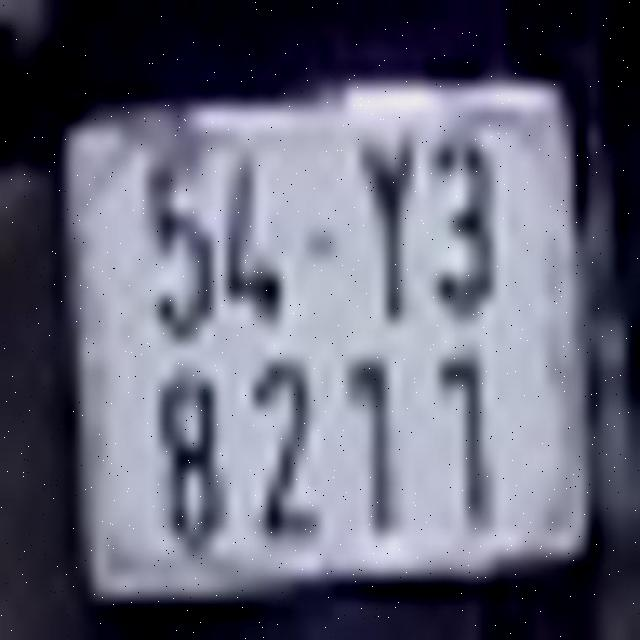1: (434, 346, 500, 534), (344, 351, 401, 539)
2: (248, 354, 325, 540)
3: (428, 128, 503, 322)
4: (220, 146, 290, 334)
5: (142, 148, 218, 343)
8: (157, 368, 227, 557)
Y: (350, 120, 418, 326)
